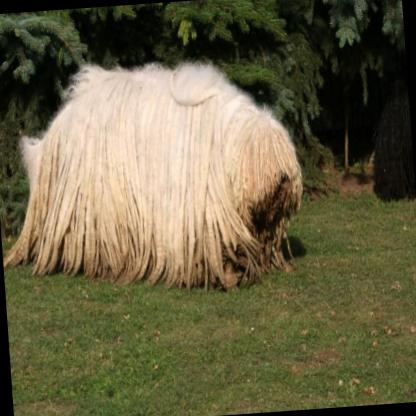komondor: (0, 47, 308, 304)
